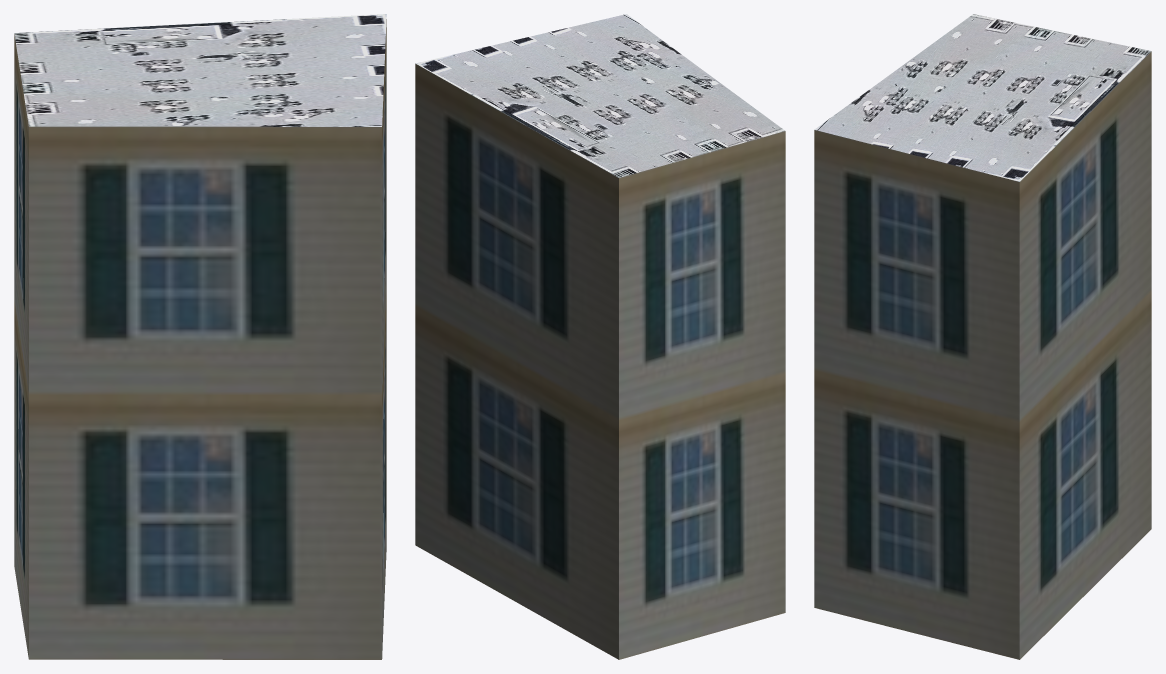
Rendered from ResTex__3587.fbx.
The picture shows the model from 3 angles, left to right: view 1: azimuth 30°, elevation 25°; view 2: azimuth 150°, elevation 25°; view 3: azimuth 270°, elevation 25°; orthographic projection. The views are drawn at different scales.
Visible parts, largest first — view 1: CityEngineMaterial_7_m, CityEngineMaterial_8_m; view 2: CityEngineMaterial_7_m, CityEngineMaterial_8_m; view 3: CityEngineMaterial_7_m, CityEngineMaterial_8_m.
Part boxes in pixels (x1,y1,x2,y2): CityEngineMaterial_7_m: [14, 19, 386, 659]; CityEngineMaterial_8_m: [14, 14, 386, 126]; CityEngineMaterial_7_m: [415, 63, 785, 659]; CityEngineMaterial_8_m: [415, 14, 784, 177]; CityEngineMaterial_7_m: [814, 51, 1151, 659]; CityEngineMaterial_8_m: [814, 14, 1151, 181].
Bounding box in the file's own units: 4.52 × 6 × 3.84.
2 materials, 2 textured.
